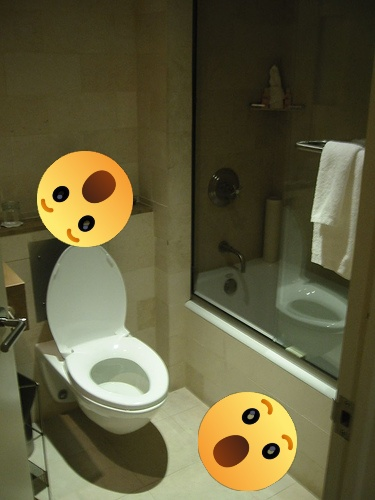wow: (198, 392, 297, 491), (37, 151, 133, 247)
